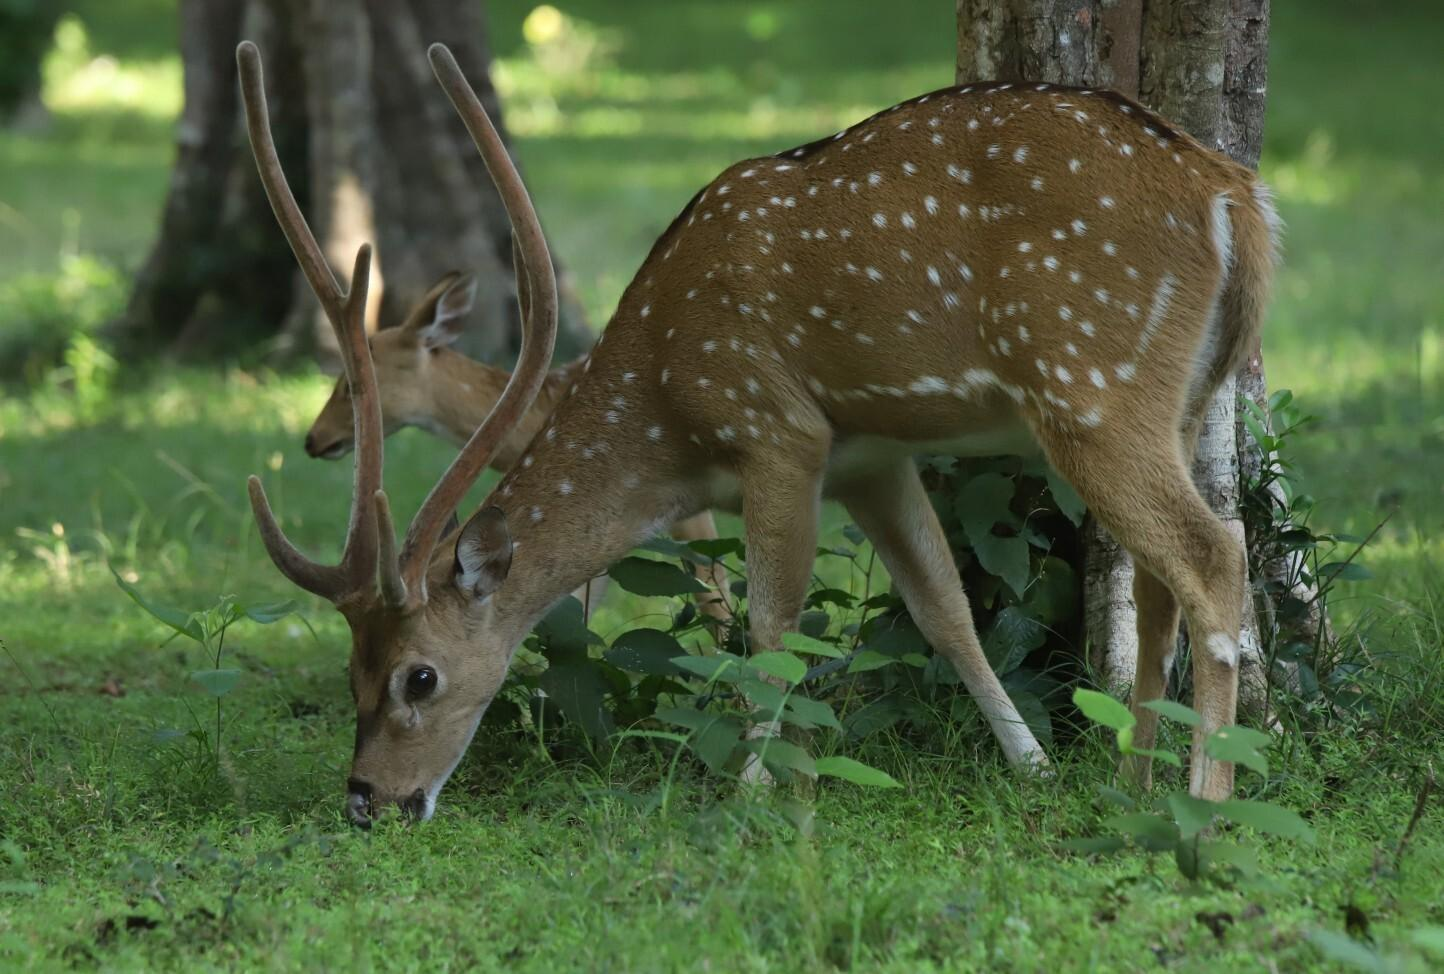Deer: (237, 43, 1277, 825)
